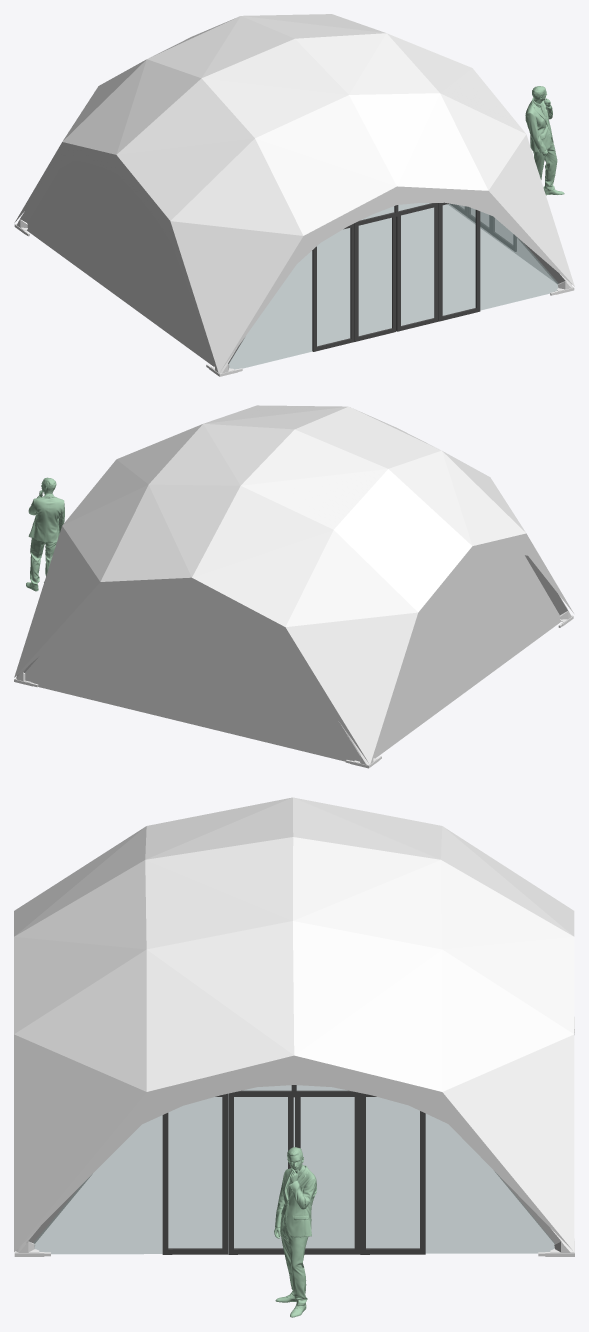
Rendered from eco36.glb.
The picture shows the model from 3 angles, top to bottom: view 1: azimuth 30°, elevation 25°; view 2: azimuth 150°, elevation 25°; view 3: azimuth 270°, elevation 25°; orthographic projection. The views are drawn at different scales.
Visible parts, largest first — view 1: tent, windows-2, sidewall-1, logo-area-3, logo-area-2, human, frame-7, frame-9, frame-10, frame-6, windows-1; view 2: tent, sidewall-2, sidewall-1, logo-area-4, logo-area-1, human, Layer:Балки679; view 3: tent, windows-1, logo-area-1, logo-area-2, human, frame-1.001, frame-5, frame-4, frame-2.001.
Boxes of the visible parts, bbox=[...] form: tent: bbox=[14, 14, 574, 370]; windows-2: bbox=[229, 203, 558, 369]; sidewall-1: bbox=[27, 161, 214, 366]; logo-area-3: bbox=[170, 221, 303, 373]; logo-area-2: bbox=[488, 134, 560, 258]; human: bbox=[525, 86, 564, 195]; frame-7: bbox=[354, 212, 396, 341]; frame-9: bbox=[396, 203, 438, 331]; frame-10: bbox=[438, 202, 480, 321]; frame-6: bbox=[312, 223, 354, 351]; windows-1: bbox=[448, 204, 555, 282]; tent: bbox=[15, 405, 573, 762]; sidewall-2: bbox=[25, 594, 359, 761]; sidewall-1: bbox=[373, 553, 561, 758]; logo-area-4: bbox=[286, 612, 417, 764]; logo-area-1: bbox=[14, 526, 99, 677]; human: bbox=[26, 477, 64, 591]; Layer:Балки679: bbox=[525, 555, 568, 615]; tent: bbox=[14, 797, 574, 1251]; windows-1: bbox=[33, 1085, 554, 1254]; logo-area-1: bbox=[442, 1034, 574, 1251]; logo-area-2: bbox=[14, 1034, 146, 1205]; human: bbox=[274, 1147, 316, 1317]; frame-1.001: bbox=[162, 1093, 227, 1254]; frame-5: bbox=[360, 1093, 425, 1254]; frame-4: bbox=[295, 1090, 360, 1254]; frame-2.001: bbox=[228, 1090, 293, 1254].
Size of the model in its own units: 76.41 by 36.12 by 60.72.
